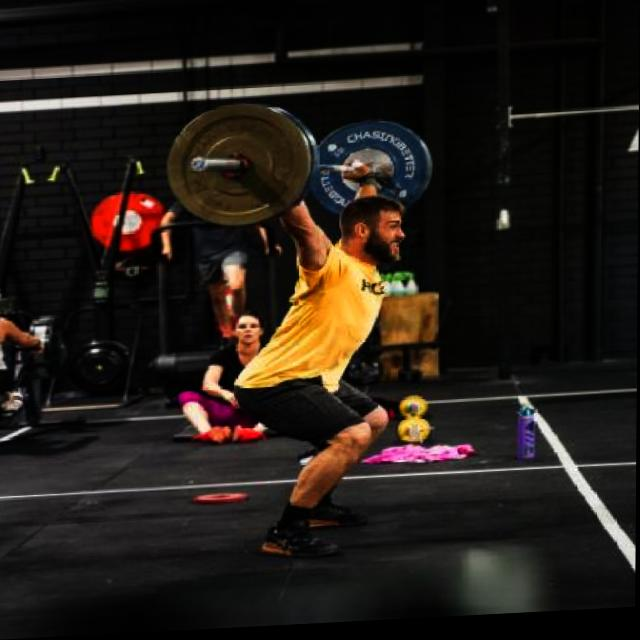barbell: (162, 103, 316, 237)
